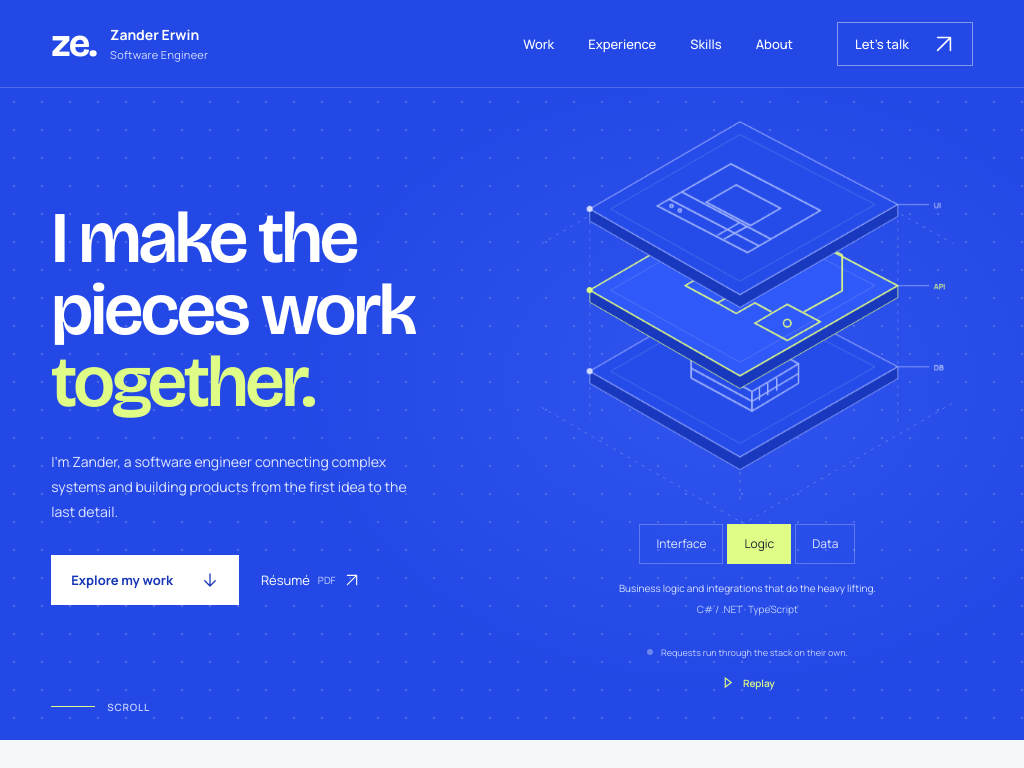
Test case: software stack choices update the explanation and accessible diagram
Click the button "Data" at [825, 544], box [795,524,855,564]
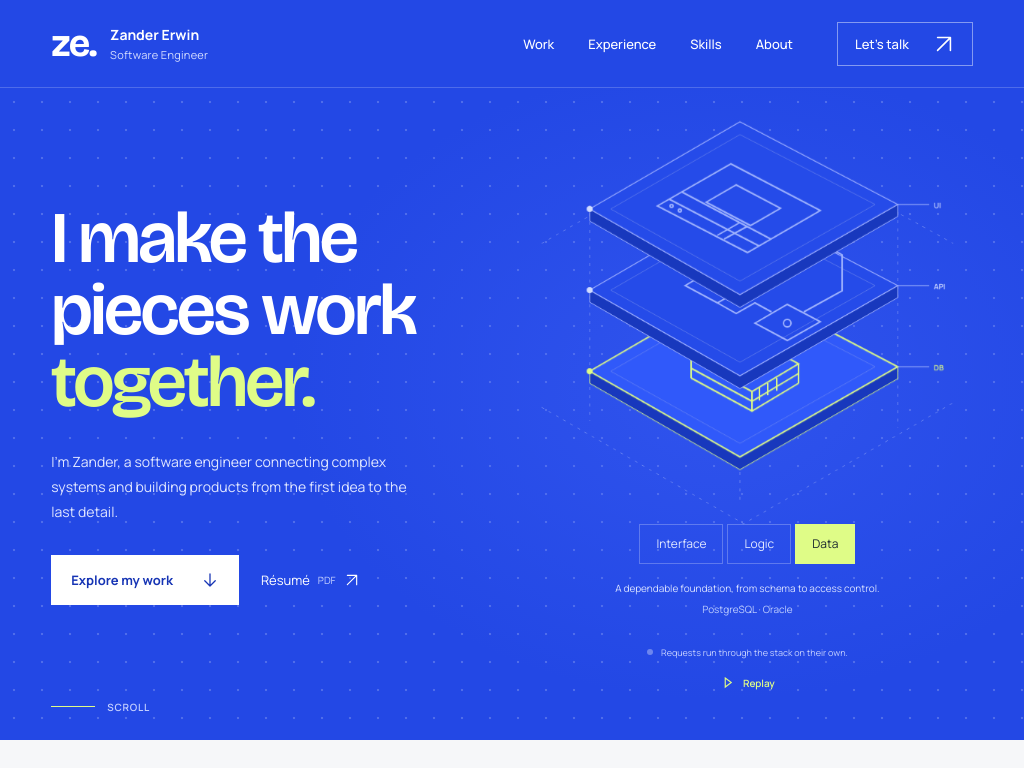
Check: the picture named "data layer highlighted" is shown, box [522,118,973,524]
Check: the text "PostgreSQL · Oracle" is shown, box [702,602,793,616]
